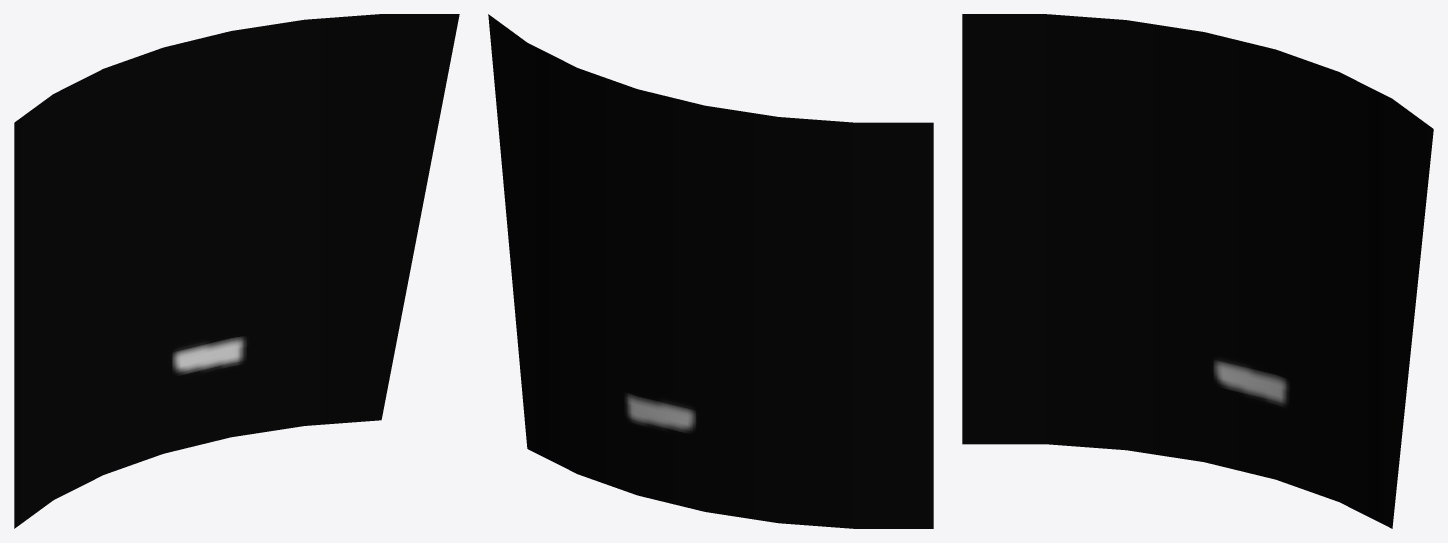
The model's file is 19-goofy-derpy-fella-mouth.glb.
3 renders of one model, left to right at view 1: azimuth 30°, elevation 25°; view 2: azimuth 150°, elevation 25°; view 3: azimuth 330°, elevation 25°, orthographic. The views are drawn at different scales.
Parts seen in each view (by area): view 1: 19-goofy-derpy-fella-mouth; view 2: 19-goofy-derpy-fella-mouth; view 3: 19-goofy-derpy-fella-mouth.
Boxes of the visible parts, <box> form: 19-goofy-derpy-fella-mouth: <box>14,14,459,528</box>; 19-goofy-derpy-fella-mouth: <box>488,14,933,528</box>; 19-goofy-derpy-fella-mouth: <box>962,14,1433,528</box>.
Bounding box in the file's own units: 0.6897 × 0.6012 × 0.1065.
1 material, 1 textured.
